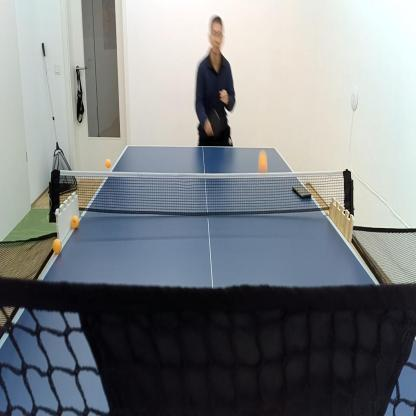Ball: (257, 148, 268, 175), (52, 236, 63, 255), (70, 214, 80, 231), (104, 158, 112, 169)
